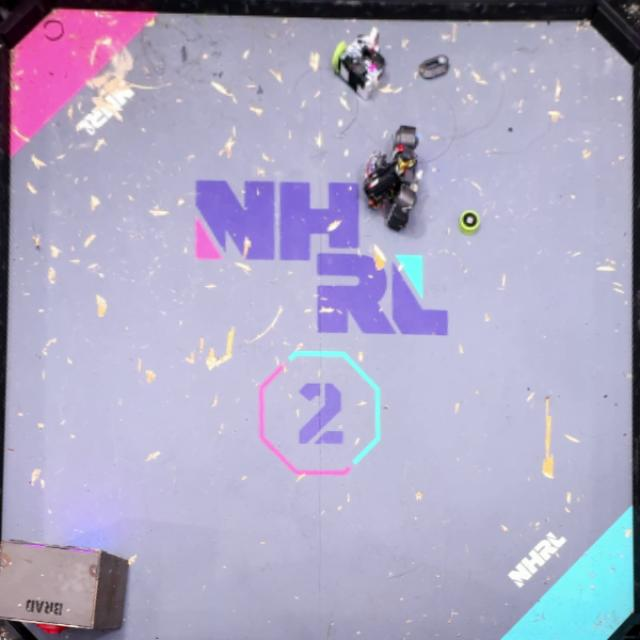housebot: (0, 535, 130, 634)
robot: (363, 124, 421, 231), (330, 24, 387, 101)
